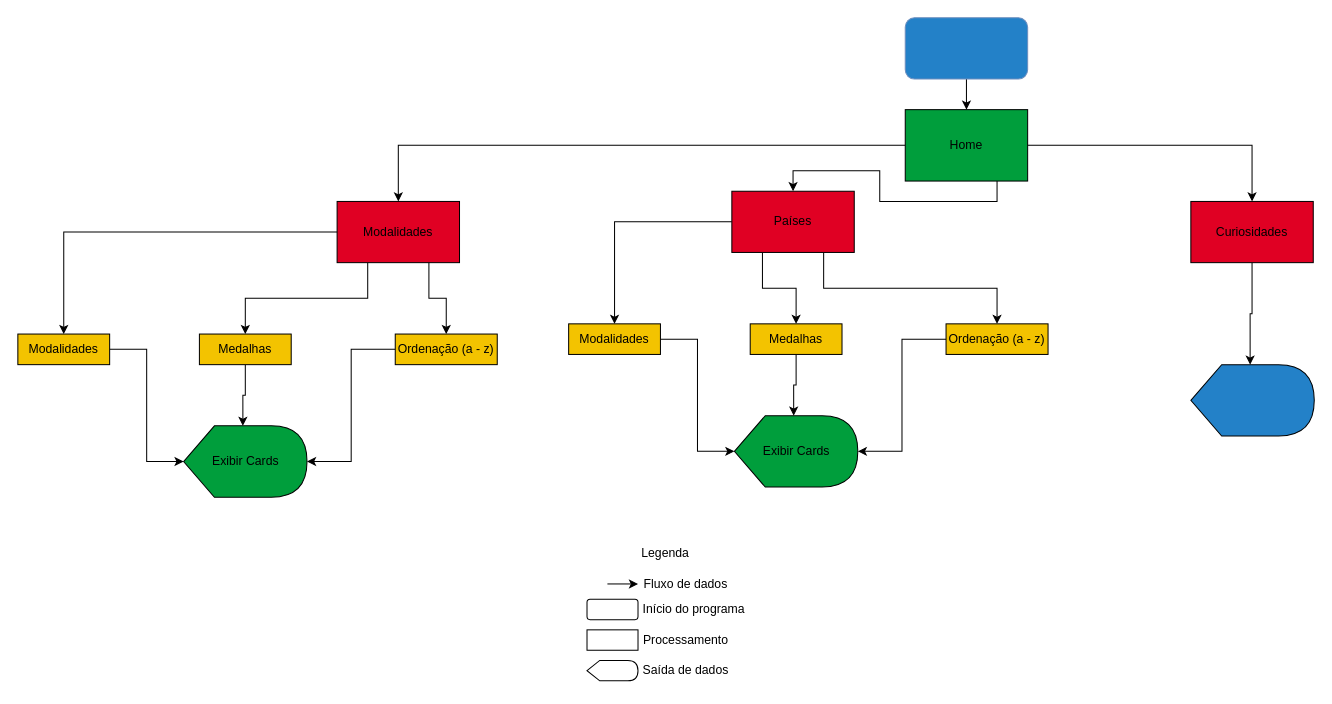
Image size: 1332x704. Some labels were removed from this diagram. Each missing label, with the centre of its shape:
Exibir Curiosidades: (x=1252, y=400)
Iniciar: (x=966, y=48)
